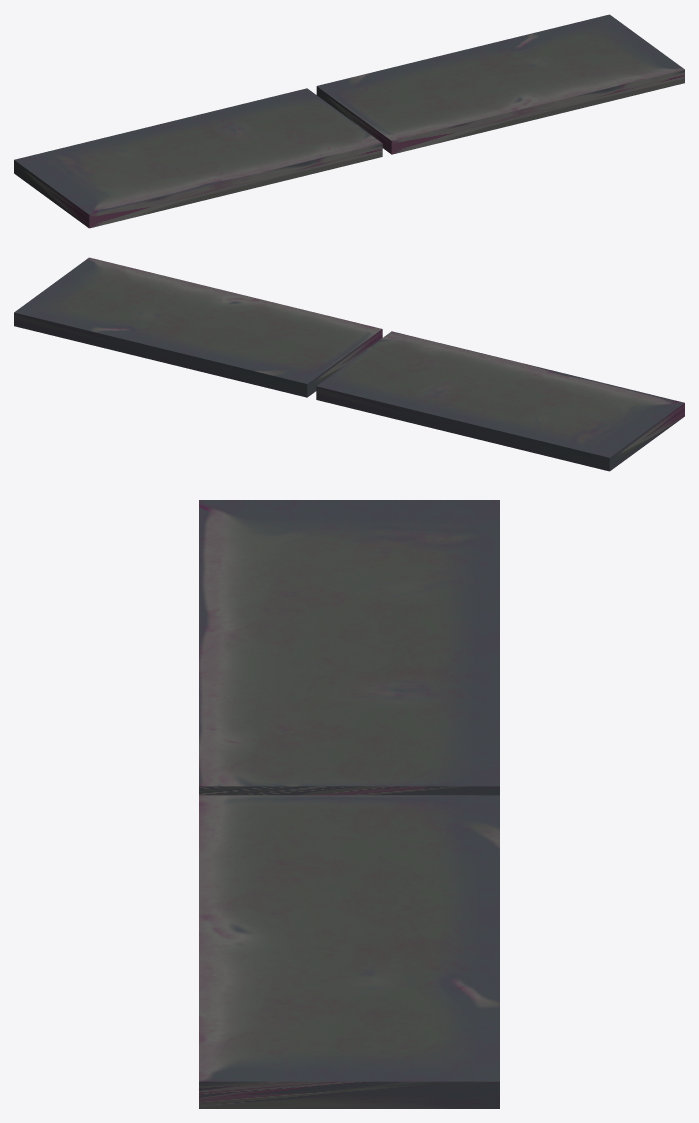
File: Floor2.fbx
3 views of the same model, one above another, from view 1: azimuth 30°, elevation 25°; view 2: azimuth 150°, elevation 25°; view 3: azimuth 270°, elevation 25° (orthographic). The views are drawn at different scales.
Parts seen in each view (by area): view 1: road.001, road.002; view 2: road.001, road.002; view 3: road.002, road.001.
Boxes of the visible parts, left/top/right/bottom form: road.001: left=14, top=88, right=382, bottom=228; road.002: left=316, top=14, right=684, bottom=154; road.001: left=316, top=331, right=684, bottom=471; road.002: left=14, top=257, right=382, bottom=397; road.002: left=199, top=795, right=499, bottom=1108; road.001: left=199, top=500, right=499, bottom=795.
Size of the model in its own units: 430 by 9.4 by 94.03.
